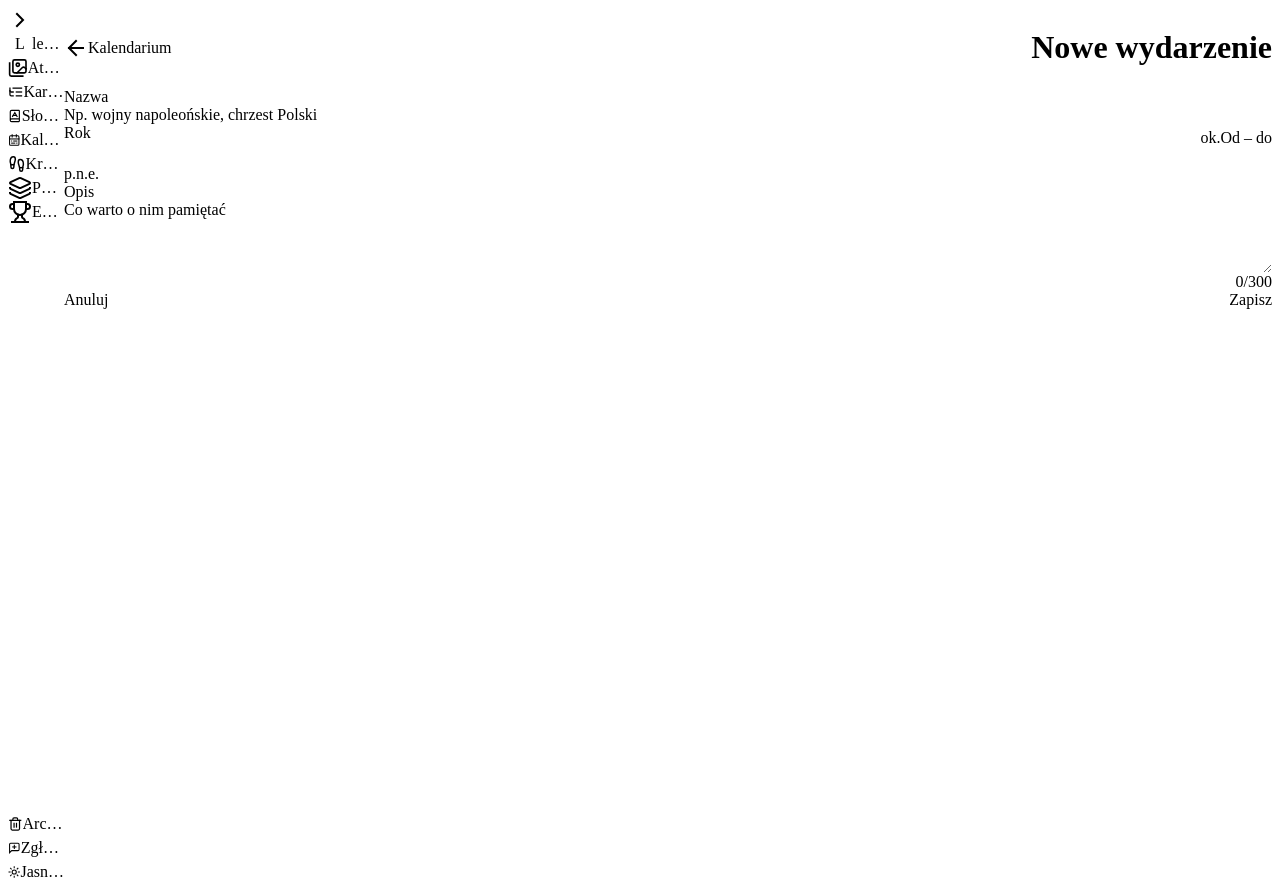
new timeline event page › does not search Wikipedia by itself when the learner switched it off, but does on request
The image size is (1280, 885).
Type "Potop szwedzki" into the field labelled "Nazwa". click: (668, 115)
box: [64,106,1272,124]
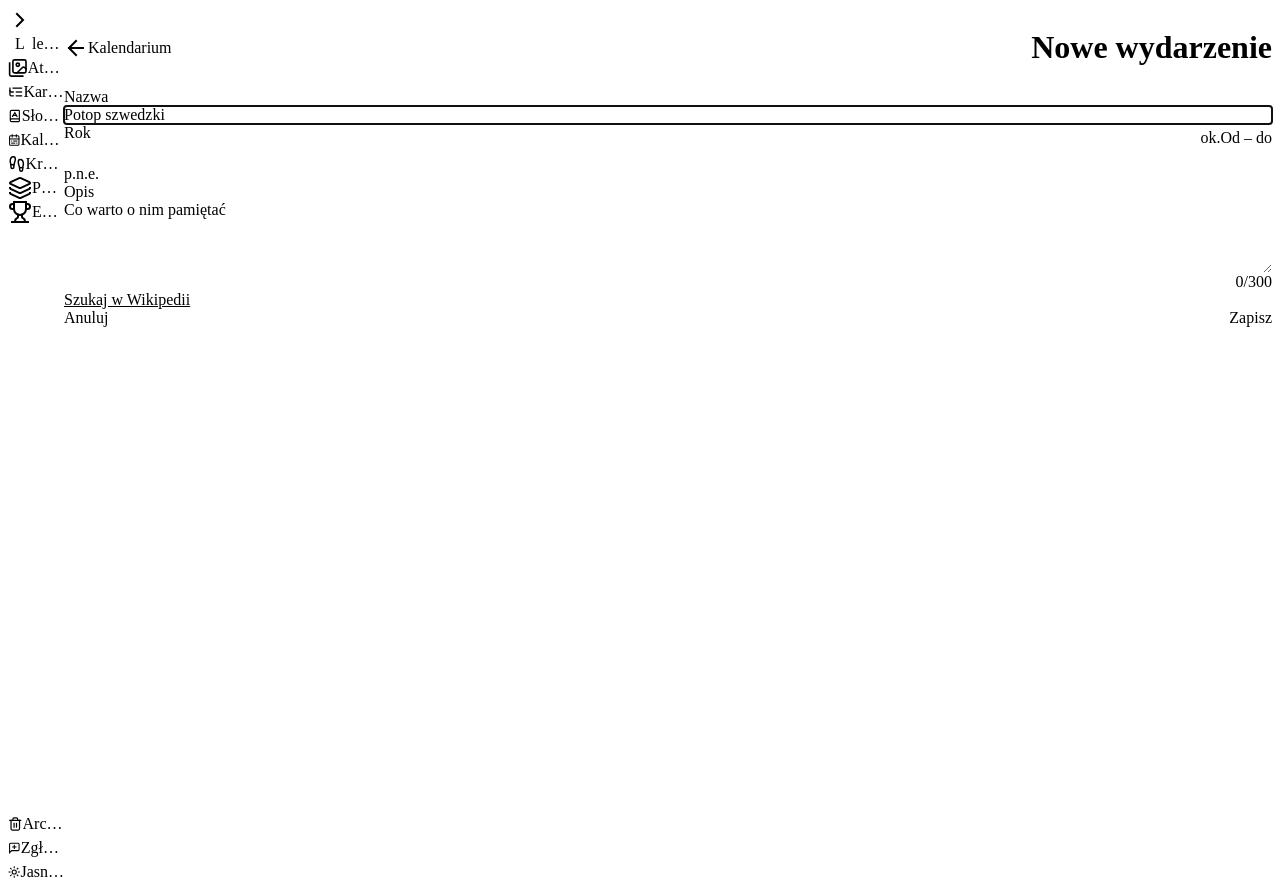
Click the button "Szukaj w Wikipedii". click: (127, 300)
box: [64,291,190,309]
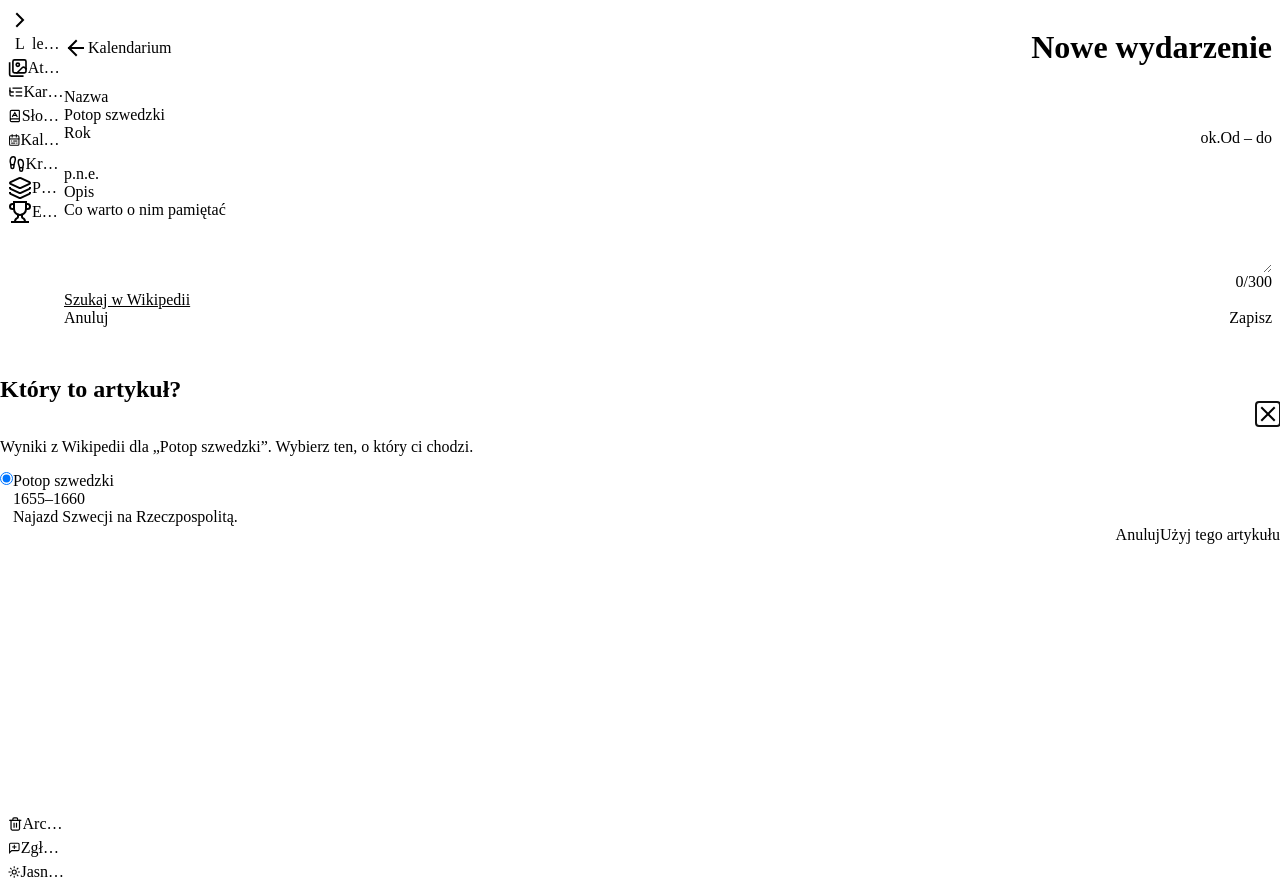
Now the text "Potop szwedzki" is shown, box [13,472,114,489]
